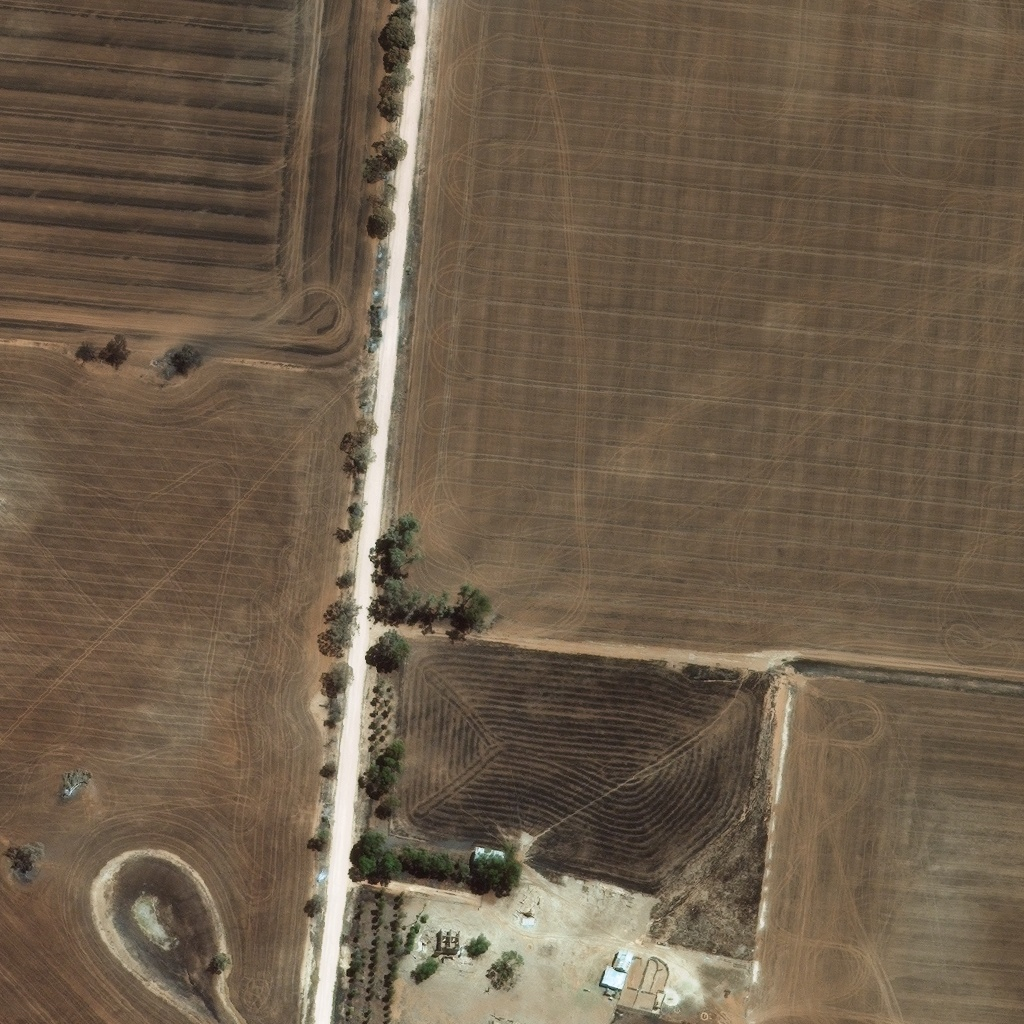0 no-damage: (599, 949, 633, 990), (473, 847, 503, 864)
3 destroyed: (438, 928, 459, 951)
